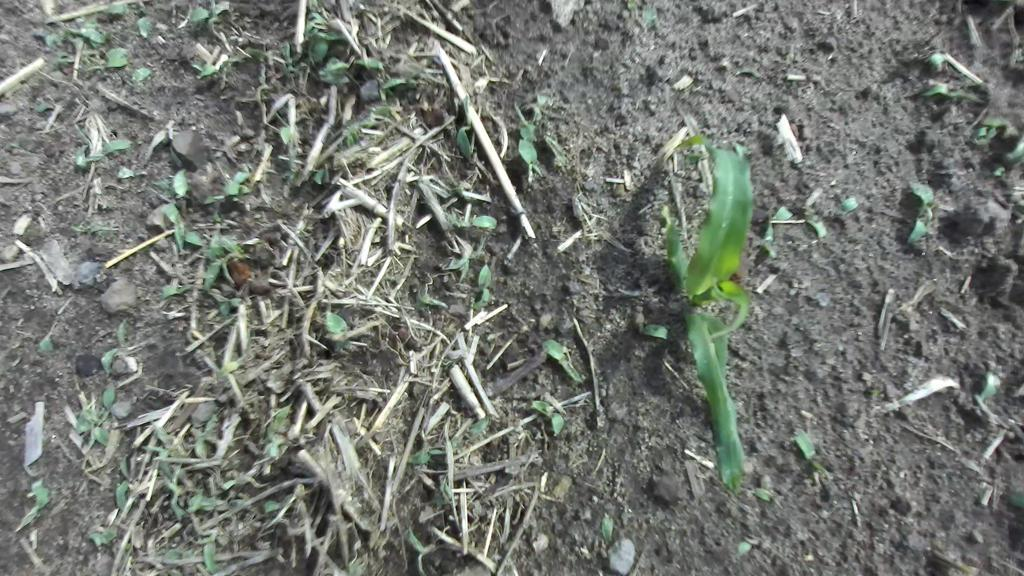BroWeed: (332, 488, 393, 549), (10, 473, 58, 539), (95, 314, 143, 379), (539, 332, 593, 386), (389, 525, 444, 576), (789, 426, 835, 486), (82, 424, 127, 483), (137, 116, 183, 162), (526, 391, 570, 438), (441, 233, 480, 286), (921, 78, 985, 110), (148, 417, 191, 464), (141, 435, 182, 482), (325, 315, 383, 347), (159, 200, 194, 253), (178, 511, 221, 552), (162, 144, 193, 199), (264, 397, 300, 444), (81, 134, 132, 165), (980, 107, 1022, 144), (902, 206, 938, 249), (163, 463, 189, 522), (111, 453, 136, 512), (977, 359, 1009, 405), (244, 41, 276, 86), (222, 466, 270, 496), (228, 507, 264, 547), (509, 99, 539, 146), (200, 179, 250, 207), (798, 200, 831, 242), (72, 11, 108, 49), (515, 134, 544, 181), (926, 547, 971, 576), (908, 175, 939, 217), (448, 208, 498, 234), (216, 245, 249, 283), (194, 538, 227, 576), (454, 96, 473, 161), (405, 441, 446, 470), (95, 380, 119, 429), (87, 42, 130, 69), (88, 518, 123, 551), (750, 483, 789, 512), (63, 20, 107, 45), (755, 213, 778, 260), (224, 162, 253, 198), (414, 285, 450, 314), (69, 404, 102, 435), (425, 474, 454, 509), (543, 131, 568, 171), (728, 531, 760, 562), (317, 308, 349, 339), (201, 248, 223, 293), (153, 519, 185, 549), (296, 9, 328, 39), (473, 262, 493, 310), (67, 217, 117, 236), (354, 51, 390, 77), (470, 233, 499, 265), (316, 66, 352, 91), (260, 430, 288, 462), (205, 286, 242, 310), (284, 481, 308, 518), (344, 550, 378, 576), (972, 127, 1002, 156), (305, 35, 331, 68), (30, 29, 67, 52), (184, 483, 209, 516), (158, 279, 197, 300), (73, 122, 90, 170), (549, 471, 575, 502), (277, 38, 300, 73), (188, 423, 209, 460), (189, 54, 217, 81), (671, 68, 699, 95), (171, 467, 197, 496), (262, 492, 296, 514), (150, 174, 176, 202), (275, 111, 295, 147), (180, 226, 207, 252), (132, 12, 157, 40), (381, 76, 427, 91), (1004, 131, 1024, 165), (221, 49, 248, 74), (86, 56, 128, 72), (222, 510, 246, 538), (87, 425, 111, 452), (225, 491, 252, 515), (755, 471, 782, 495), (468, 414, 495, 438), (522, 98, 545, 126), (637, 321, 669, 341), (216, 233, 246, 254), (618, 283, 660, 298), (364, 103, 401, 120), (212, 475, 237, 499), (332, 335, 356, 360), (204, 231, 225, 259), (208, 50, 232, 74), (209, 523, 232, 548), (205, 464, 226, 491), (771, 205, 794, 228), (214, 359, 240, 379), (324, 56, 354, 73), (130, 63, 152, 86), (452, 175, 474, 198), (149, 490, 169, 515), (201, 474, 221, 499), (531, 90, 556, 110), (310, 165, 332, 187), (203, 413, 219, 443), (642, 0, 659, 28), (52, 47, 73, 69), (838, 194, 860, 215), (35, 333, 55, 356), (1007, 484, 1024, 510), (252, 81, 272, 103), (116, 165, 147, 179), (600, 512, 613, 545), (131, 520, 146, 548), (103, 1, 130, 16), (295, 428, 315, 448), (90, 171, 105, 197), (345, 121, 364, 141), (574, 272, 598, 287), (163, 548, 192, 560), (967, 125, 990, 140), (313, 30, 344, 41), (735, 65, 762, 77), (217, 283, 238, 298), (31, 100, 53, 114), (378, 77, 389, 105), (990, 160, 1007, 178), (930, 52, 946, 71), (145, 534, 158, 557), (222, 489, 239, 506), (236, 237, 265, 246), (202, 495, 225, 506), (930, 538, 948, 552), (201, 503, 228, 512), (279, 63, 293, 79), (218, 300, 231, 317), (1011, 382, 1024, 399), (356, 119, 377, 129), (178, 439, 194, 452), (103, 30, 113, 50), (964, 565, 981, 576), (267, 405, 281, 418), (634, 313, 644, 330), (280, 167, 295, 178), (162, 507, 174, 520), (346, 133, 355, 148), (868, 388, 880, 397), (168, 568, 181, 576), (672, 217, 678, 225)
Maize: (662, 135, 752, 493)
